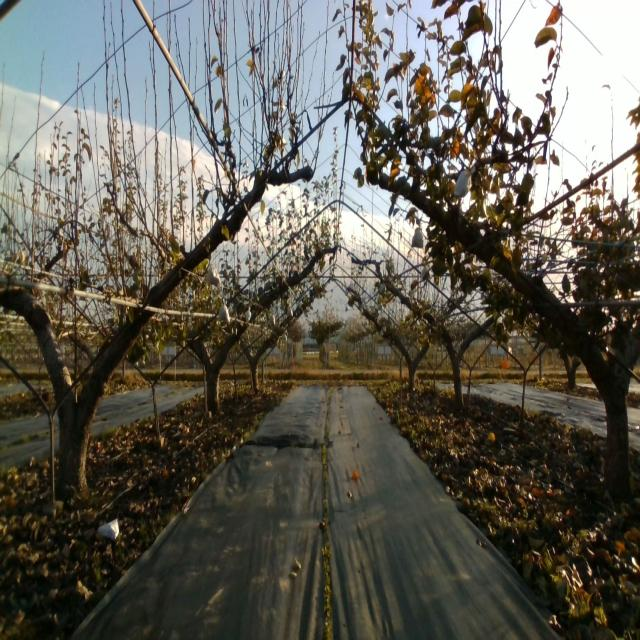pearbags: (454, 165, 475, 198), (206, 263, 221, 286), (411, 227, 424, 249), (219, 297, 230, 323)
